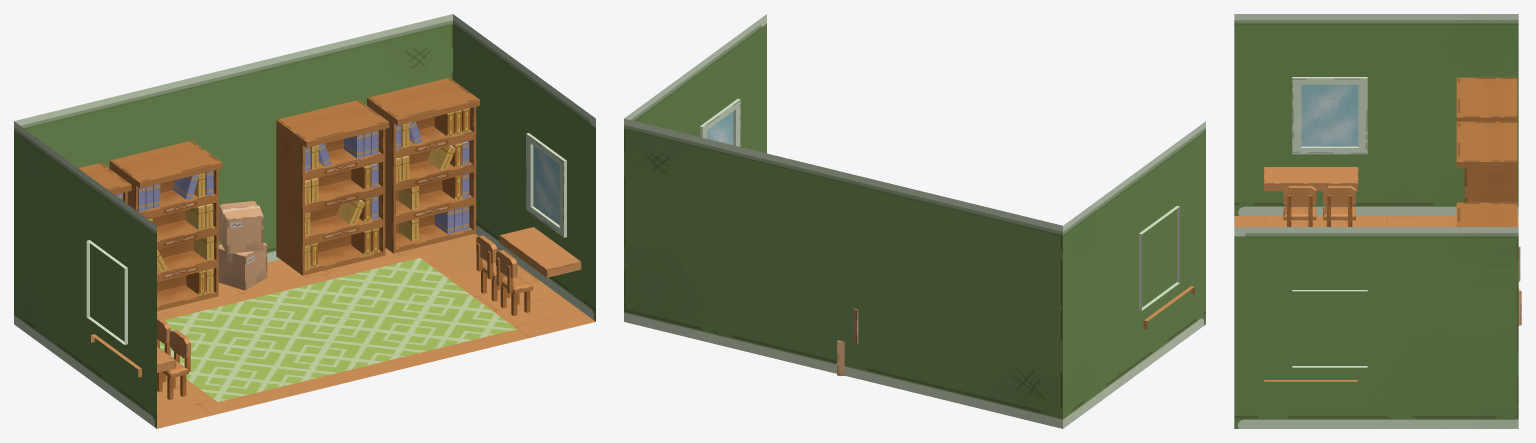
Rendered from BLD_Library.fbx.
3 views of the same model, side by side, from view 1: azimuth 30°, elevation 25°; view 2: azimuth 150°, elevation 25°; view 3: azimuth 270°, elevation 25° (orthographic).
Parts seen in each view (by area): view 1: Cube.066, Cube.069, Cube.110, Cube.079, Cube.108, Cube.111, Cube.106, Cube.077, Cube.085; view 2: Cube.066, Cube.111; view 3: Cube.066, Cube.069, Cube.111, Cube.108, Cube.106.
Boxes of the visible parts, x1,y1,x2,y2 form: Cube.066: [14, 14, 595, 428]; Cube.069: [78, 77, 479, 311]; Cube.110: [160, 258, 516, 401]; Cube.079: [115, 108, 469, 295]; Cube.108: [157, 235, 532, 399]; Cube.111: [86, 133, 566, 344]; Cube.106: [91, 227, 581, 377]; Cube.077: [218, 201, 263, 253]; Cube.085: [218, 242, 267, 290]; Cube.066: [624, 14, 1205, 428]; Cube.111: [700, 98, 1179, 310]; Cube.066: [1234, 14, 1518, 428]; Cube.069: [1456, 77, 1517, 226]; Cube.111: [1292, 77, 1367, 367]; Cube.108: [1283, 185, 1355, 226]; Cube.106: [1264, 167, 1358, 381].
Bounding box in the file's own units: 1082 × 476 × 606.
1 material, 1 textured.
